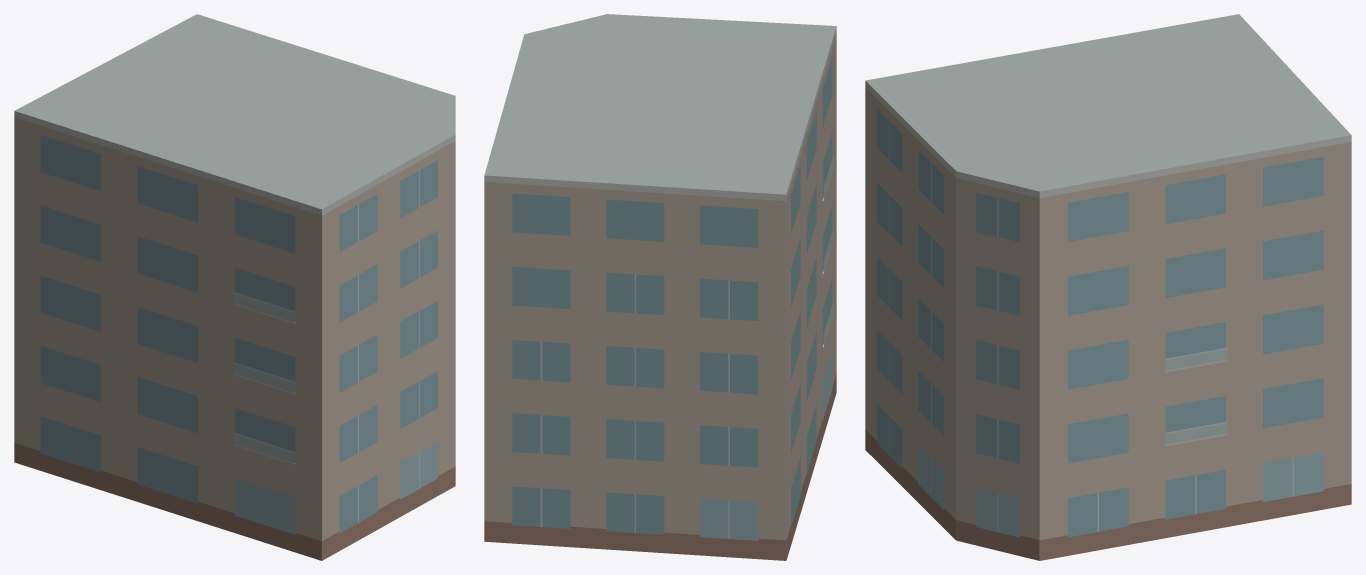
Rendered from survey-upis-32861273.glb.
The picture shows the model from 3 angles, left to right: view 1: azimuth 30°, elevation 25°; view 2: azimuth 150°, elevation 25°; view 3: azimuth 270°, elevation 25°; orthographic projection. The views are drawn at different scales.
Parts seen in each view (by area): view 1: survey-upis-32861273.tmp; view 2: survey-upis-32861273.tmp; view 3: survey-upis-32861273.tmp.
Part boxes in pixels (x1,y1,x2,y2): survey-upis-32861273.tmp: (14,14,455,560); survey-upis-32861273.tmp: (484,14,836,560); survey-upis-32861273.tmp: (865,14,1351,560).
Bounding box in the file's own units: 14.04 × 13.6 × 16.24.
